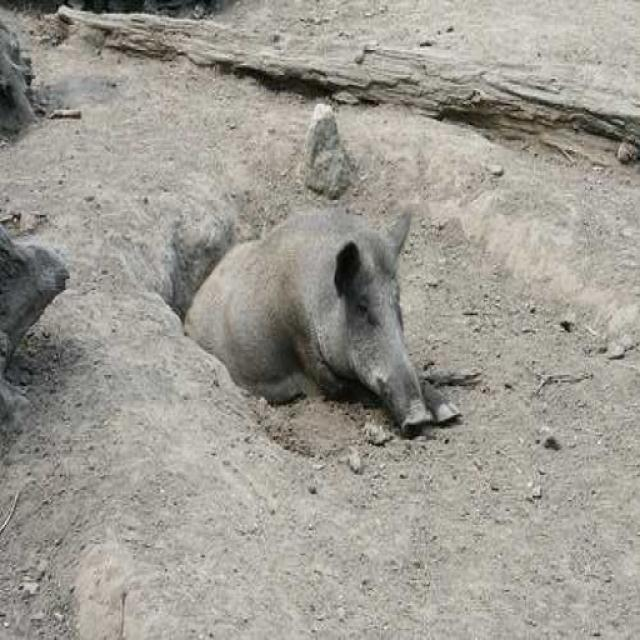pig: (169, 166, 484, 489)
